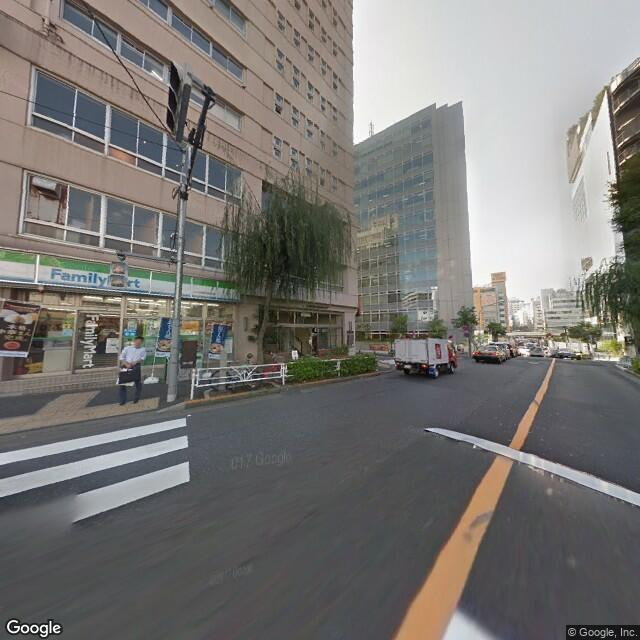family_mart: (1, 247, 240, 306)
